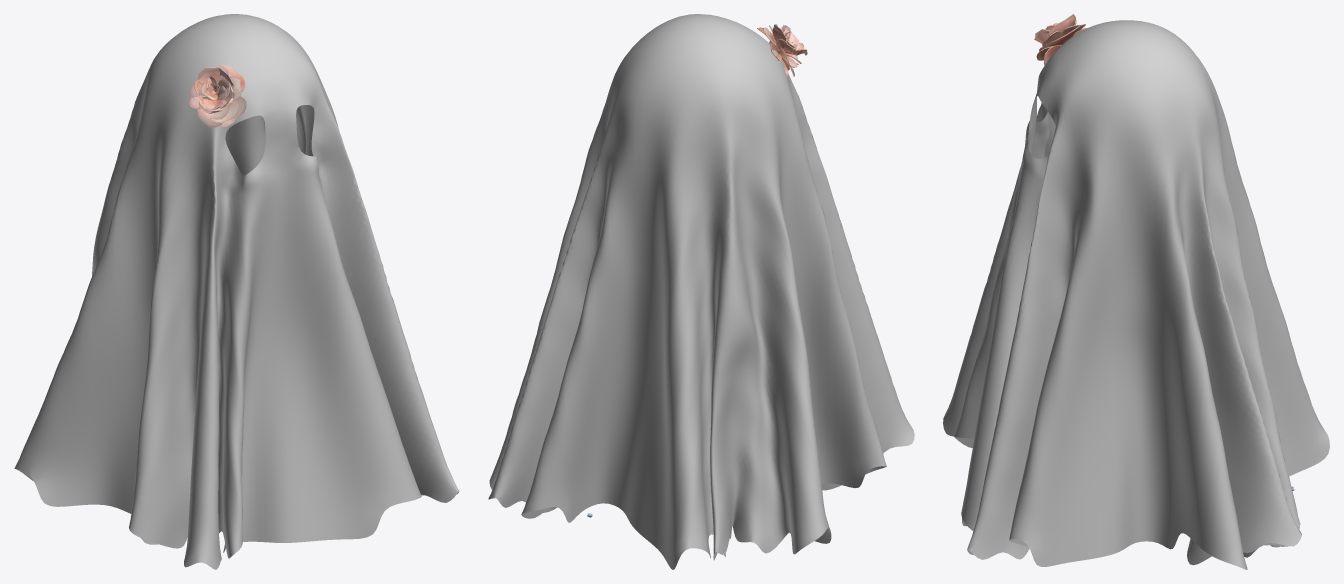
File: GhostFlower.fbx
3 renders of one model, left to right at view 1: azimuth 30°, elevation 25°; view 2: azimuth 150°, elevation 25°; view 3: azimuth 270°, elevation 25°, orthographic.
Visible parts, largest first — view 1: roses_lambert2_0; view 2: roses_lambert2_0; view 3: roses_lambert2_0.
Boxes of the visible parts, x1,y1,x2,y2 form: roses_lambert2_0: (14, 14, 459, 569); roses_lambert2_0: (488, 14, 914, 569); roses_lambert2_0: (943, 14, 1329, 569).
Bounding box in the file's own units: 99.43 × 139 × 101.
